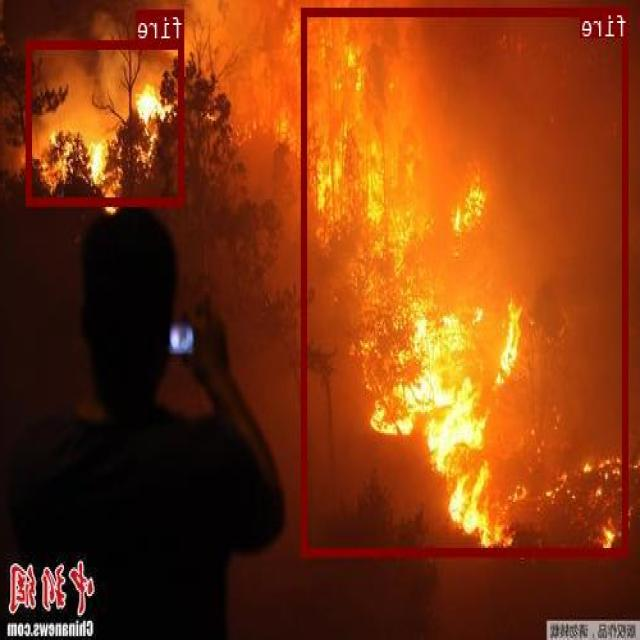fire: (303, 7, 629, 556), (28, 39, 186, 204)
